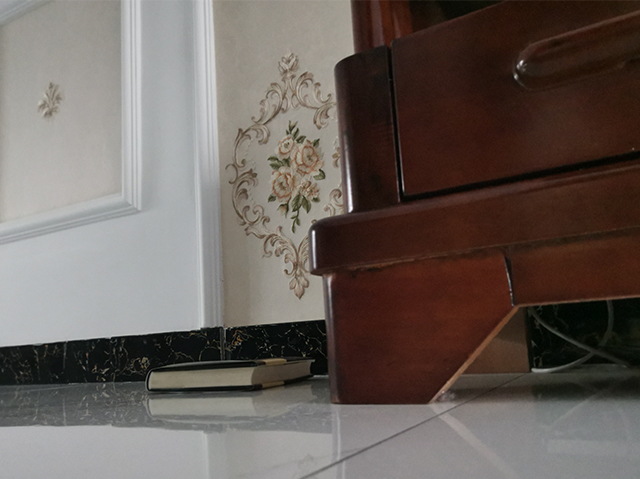book: (143, 355, 316, 396)
wire: (526, 299, 629, 376)
wirecabinet: (307, 1, 640, 406)
